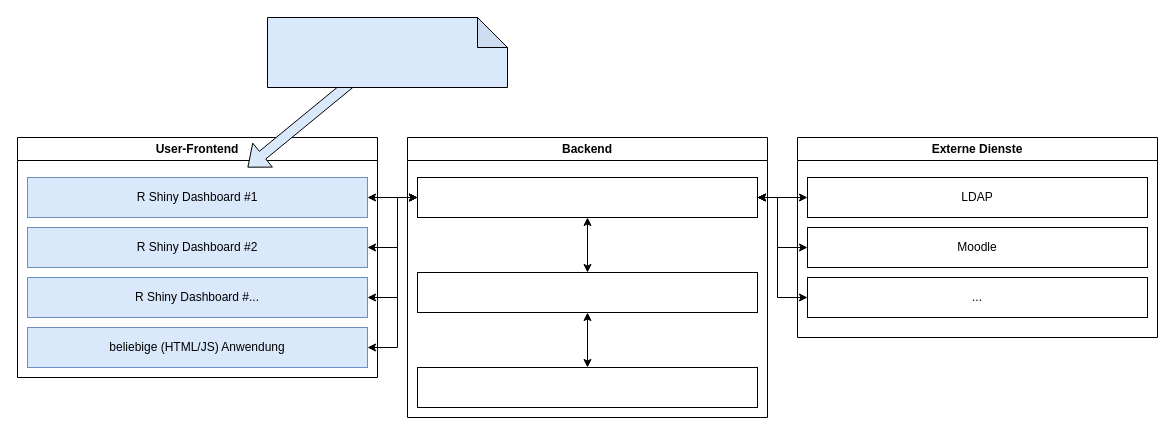
This 1175x435 diagram has some shape labels left out. Here are the shapes that lost their labels. From the top down, the centre of each, then its label:
[387,52]: Implementieren alle die Web API
[587,197]: Web API
[587,292]: Datenbank
[587,387]: Admin-Interface
